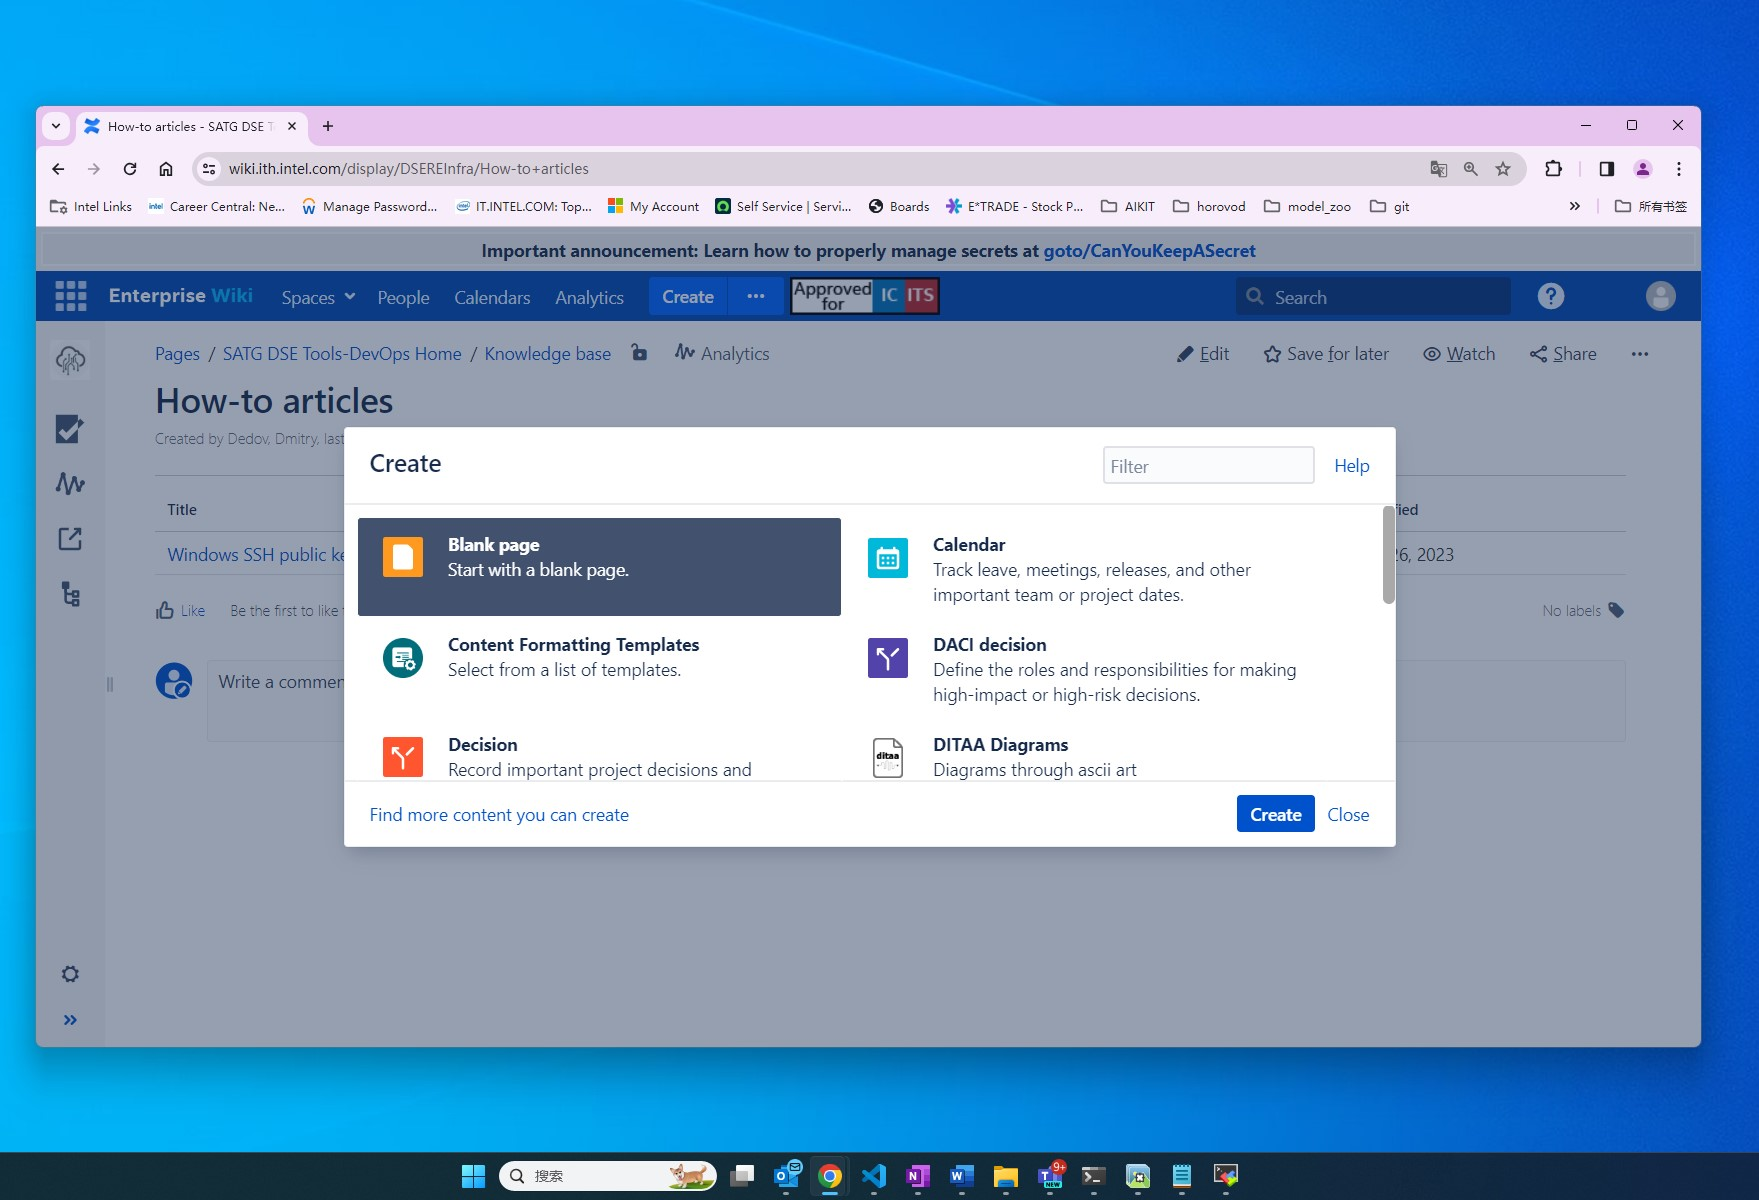button_create: (1232, 790, 1321, 845)
search_box: (1101, 444, 1323, 490), (499, 1159, 720, 1193)
start_bar: (457, 1163, 489, 1195)
